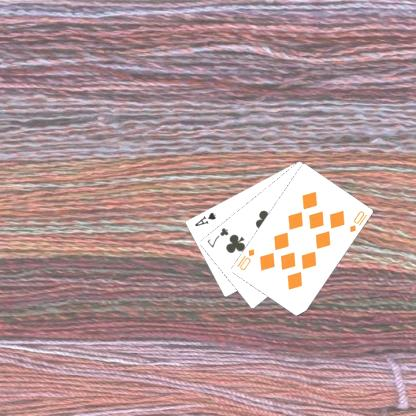10D: (235, 246, 258, 272), (348, 208, 370, 233)
7C: (206, 225, 232, 249)
AS: (194, 209, 218, 228)
